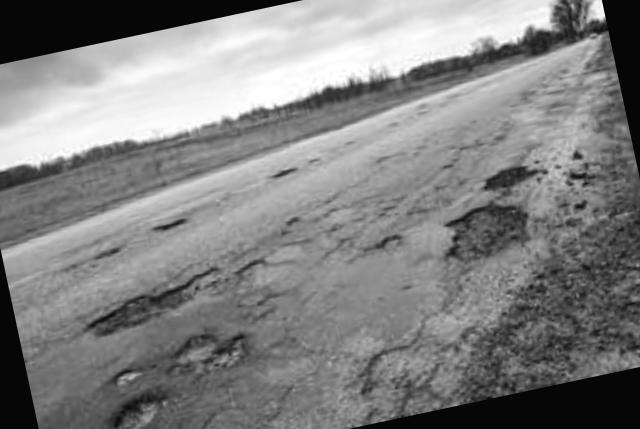Pothole: (68, 234, 252, 356), (408, 186, 552, 282), (437, 152, 558, 224), (162, 318, 276, 380), (90, 369, 188, 429), (104, 350, 162, 394), (72, 235, 126, 279), (152, 204, 196, 242)
